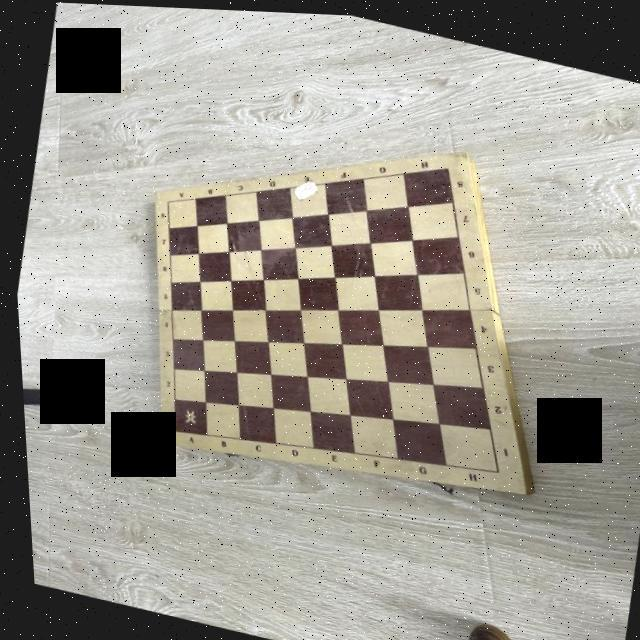chess-table-corners: (434, 156, 456, 174), (483, 459, 499, 476), (156, 194, 173, 207), (162, 424, 177, 436)
